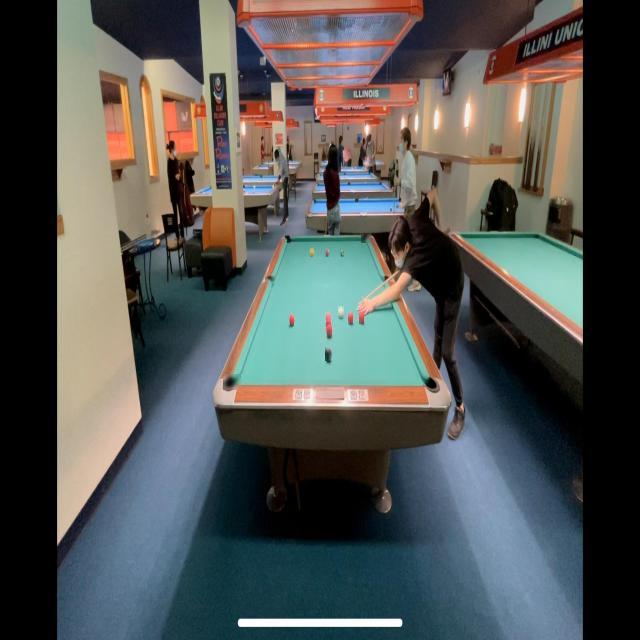Ball: (326, 348, 332, 362), (338, 306, 344, 318), (326, 312, 331, 324), (348, 312, 353, 324), (359, 312, 364, 324), (327, 326, 332, 338), (326, 320, 331, 330), (290, 314, 294, 326), (310, 248, 314, 256), (340, 250, 344, 256), (326, 248, 328, 256)
Pocket: (420, 372, 440, 392), (224, 374, 242, 390), (265, 274, 277, 288), (381, 273, 390, 288), (362, 233, 372, 243), (286, 235, 294, 243)
